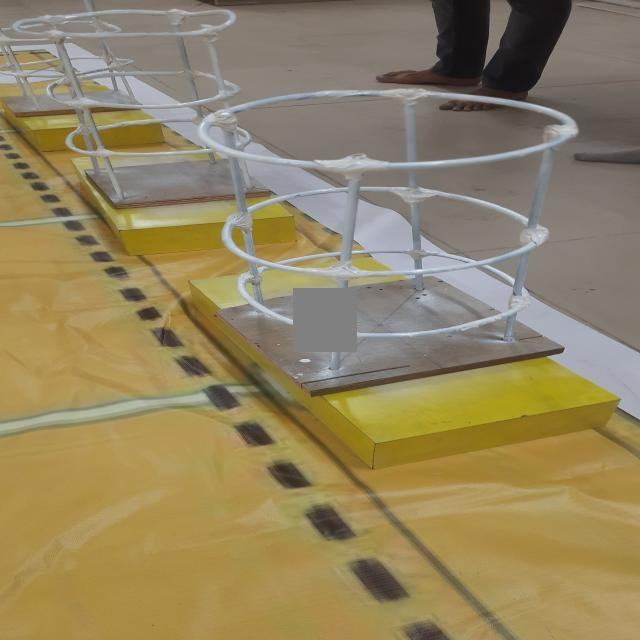silo: (201, 92, 576, 380), (18, 3, 284, 202)
